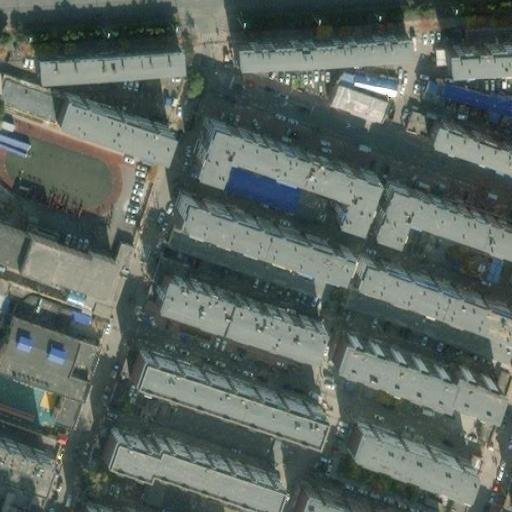building: (186, 111, 374, 224), (127, 339, 323, 437), (147, 260, 324, 354), (176, 187, 347, 271), (327, 326, 501, 408), (96, 423, 280, 500), (352, 248, 512, 331), (162, 225, 327, 301), (370, 171, 512, 244), (340, 286, 489, 354), (343, 417, 474, 493), (56, 92, 177, 156), (10, 233, 114, 305), (224, 23, 403, 55), (422, 111, 512, 167), (45, 335, 94, 422), (420, 75, 512, 117), (31, 50, 174, 77), (292, 479, 399, 512), (440, 35, 512, 62), (325, 81, 378, 117), (77, 496, 152, 512)
